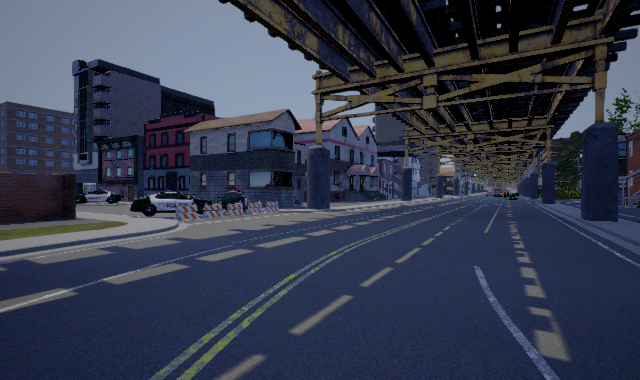vehicle: (130, 190, 219, 215), (76, 189, 125, 204)
